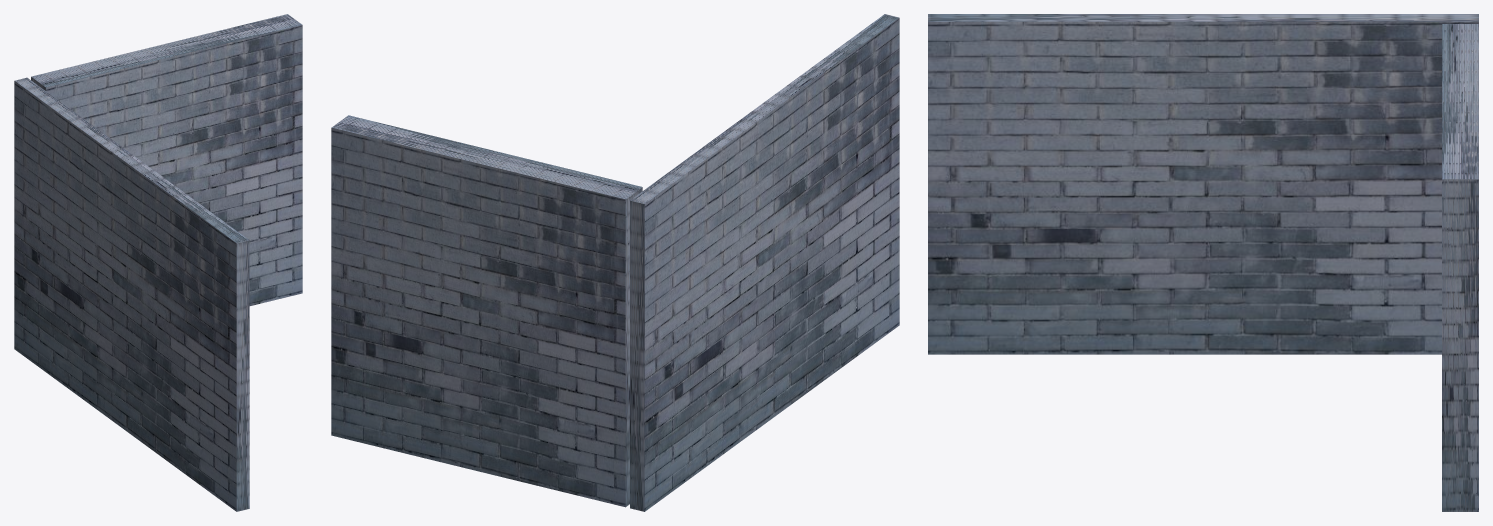
Rendered from wall.obj.
The picture shows the model from 3 angles, left to right: view 1: azimuth 30°, elevation 25°; view 2: azimuth 150°, elevation 25°; view 3: azimuth 270°, elevation 25°; orthographic projection. The views are drawn at different scales.
Visible parts, largest first — view 1: Box003; view 2: Box003; view 3: Box003.
Part boxes in pixels (x1,y1,x2,y2): Box003: (14, 14, 302, 511); Box003: (331, 14, 899, 511); Box003: (928, 14, 1478, 511).
Size of the model in its own units: 106 by 100 by 150.
